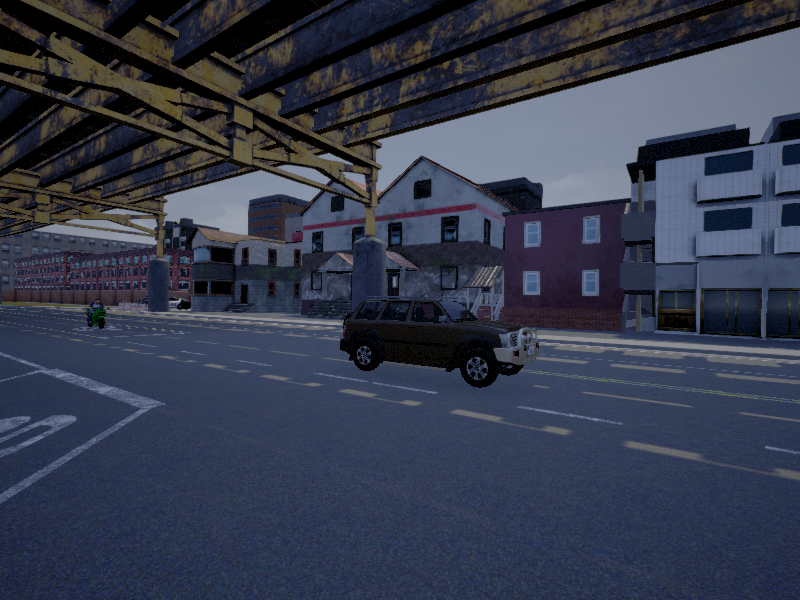benign: (338, 297, 541, 387)
